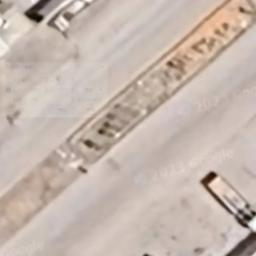truck: (205, 169, 256, 235), (52, 0, 96, 35)
